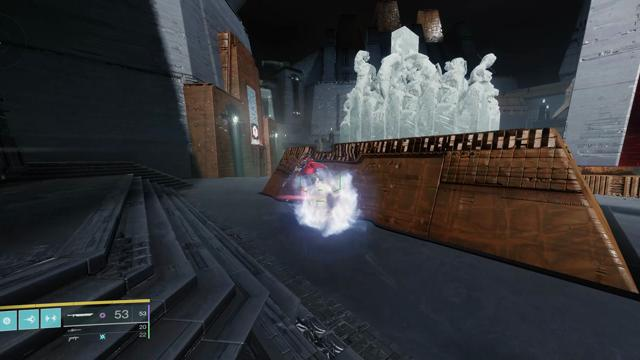worship: (253, 126, 258, 137)
